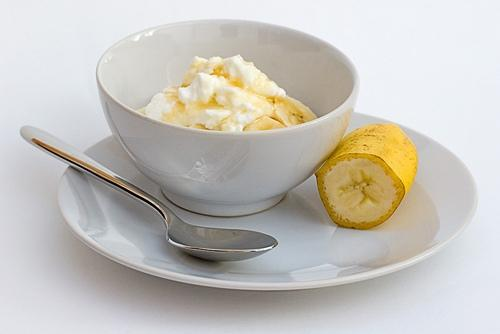banana: (314, 123, 418, 229), (272, 96, 318, 128), (244, 115, 287, 132)
